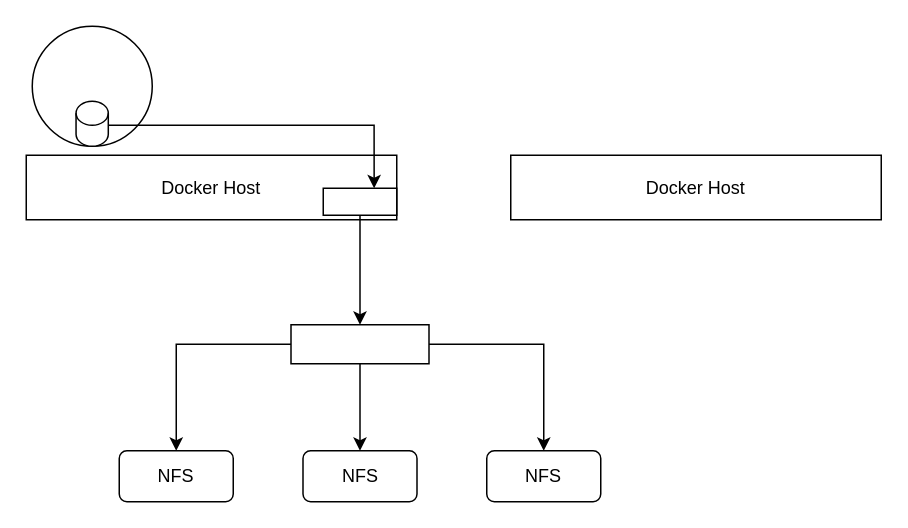
Some shapes in this 908 by 528 pixel diagram are drawn without their labels. The box of each missing label's shape, as (x1, y1, x2, y2) in pixels:
Container: (31, 25, 152, 146)
endpoint: (290, 323, 429, 364)
volume: (322, 187, 397, 215)
